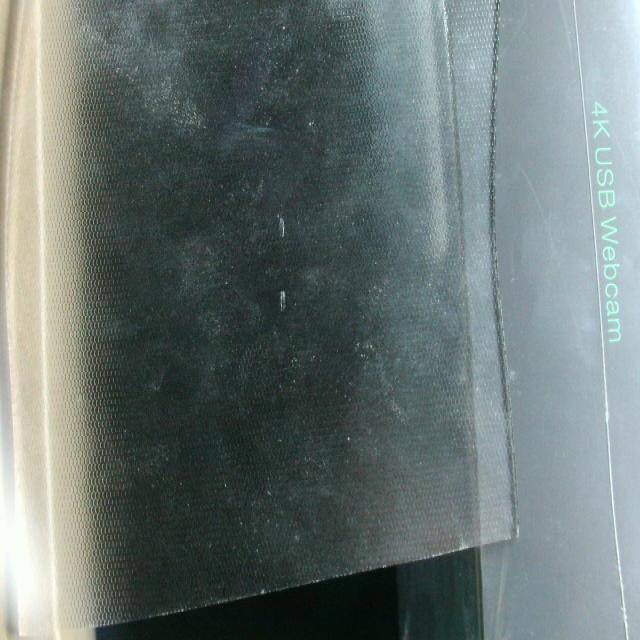very small scratch: (272, 206, 292, 242), (274, 280, 292, 317)
